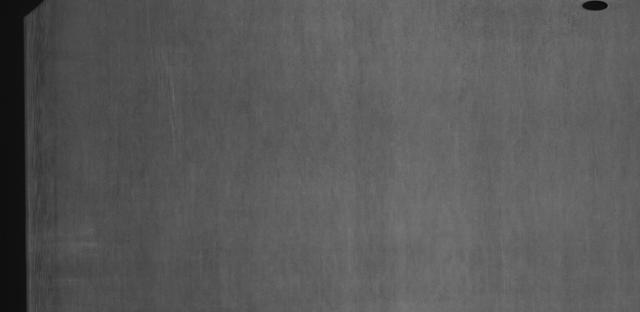crescent_gap: (22, 0, 49, 27)
punching_hole: (580, 0, 612, 12)
